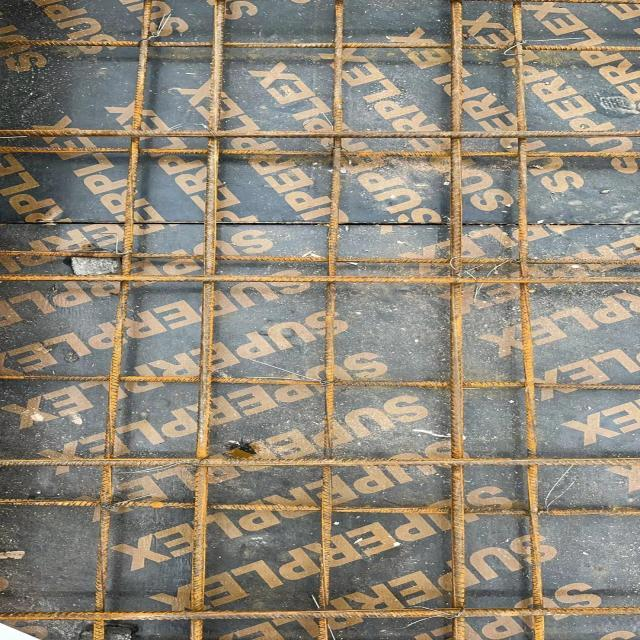ribbed bar: (88, 0, 152, 639), (187, 0, 226, 639), (509, 0, 546, 639), (313, 0, 344, 639), (0, 497, 639, 516), (0, 372, 639, 390), (0, 249, 639, 266), (450, 0, 467, 639), (0, 606, 639, 622), (0, 39, 639, 52), (0, 146, 639, 159), (0, 273, 639, 284), (0, 457, 639, 468), (0, 129, 639, 138)
